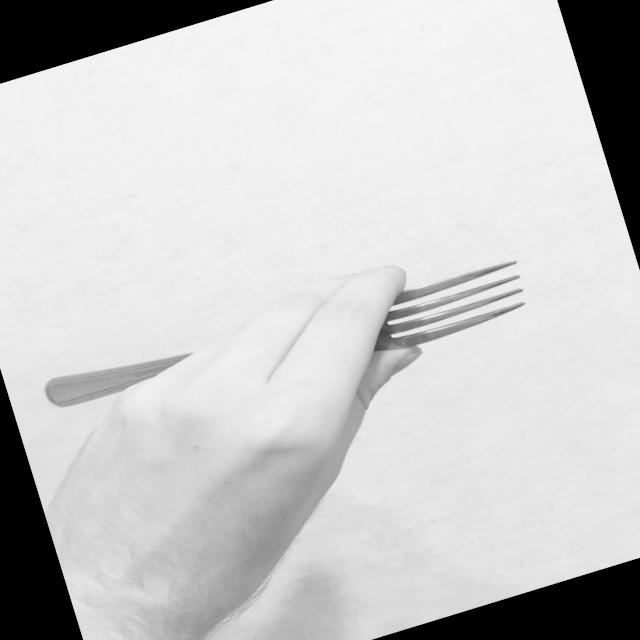fork: (39, 237, 534, 452)
